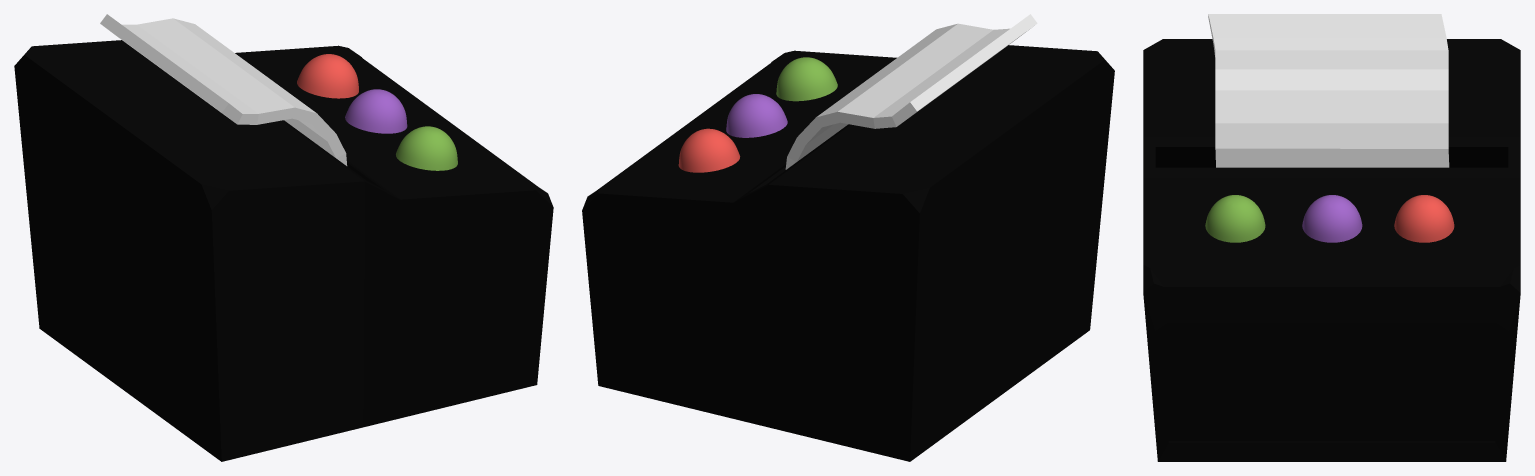
File: machine1.fbx
3 views of the same model, side by side, from view 1: azimuth 30°, elevation 25°; view 2: azimuth 150°, elevation 25°; view 3: azimuth 270°, elevation 25° (orthographic). The views are drawn at different scales.
Parts seen in each view (by area): view 1: Cube.008; view 2: Cube.008; view 3: Cube.008.
Part boxes in pixels (x1=…): Cube.008: x1=14, y1=14, x2=553, y2=461; Cube.008: x1=582, y1=14, x2=1114, y2=461; Cube.008: x1=1143, y1=14, x2=1520, y2=461.
Size of the model in its own units: 33.17 by 30.7 by 33.17.
